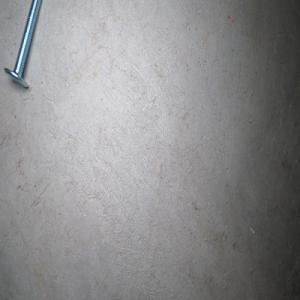Bolt: (3, 0, 42, 88)
